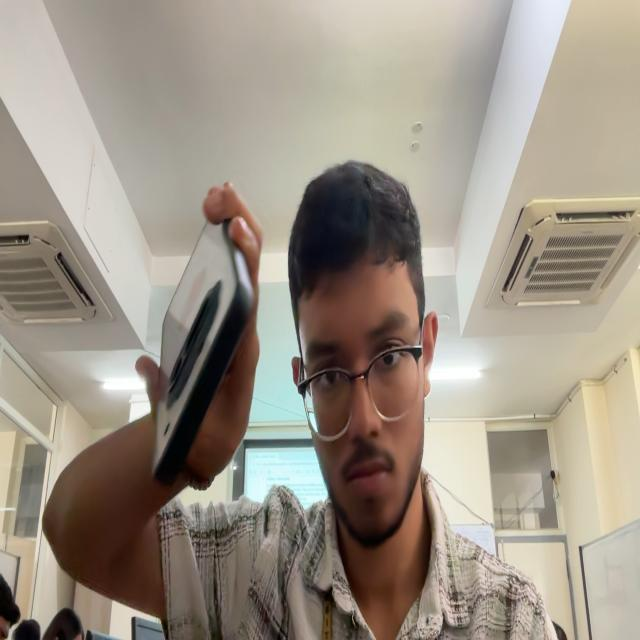Useful: (153, 220, 253, 484)
